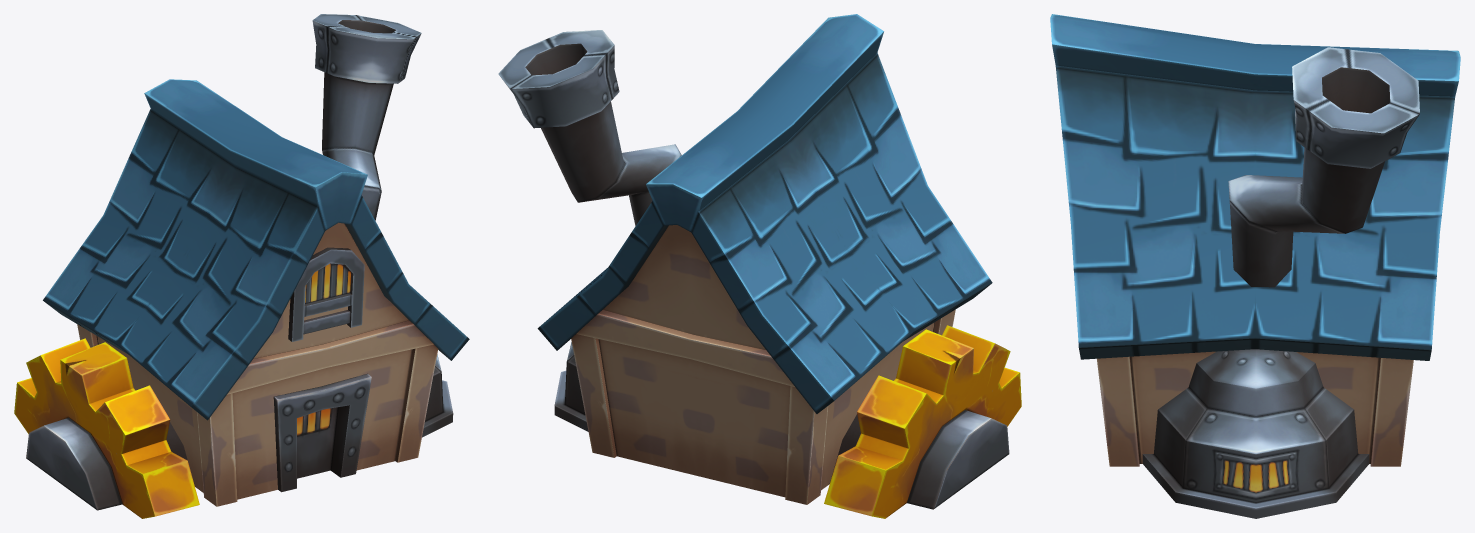
File: building_21.FBX
The picture shows the model from 3 angles, left to right: view 1: azimuth 30°, elevation 25°; view 2: azimuth 150°, elevation 25°; view 3: azimuth 270°, elevation 25°; orthographic projection. The views are drawn at different scales.
Parts seen in each view (by area): view 1: Box001; view 2: Box001; view 3: Box001.
Boxes of the visible parts, left/top/right/bottom form: Box001: left=14, top=14, right=469, bottom=518; Box001: left=498, top=14, right=1021, bottom=518; Box001: left=1050, top=14, right=1460, bottom=518.
Bounding box in the file's own units: 645 × 552 × 483.
